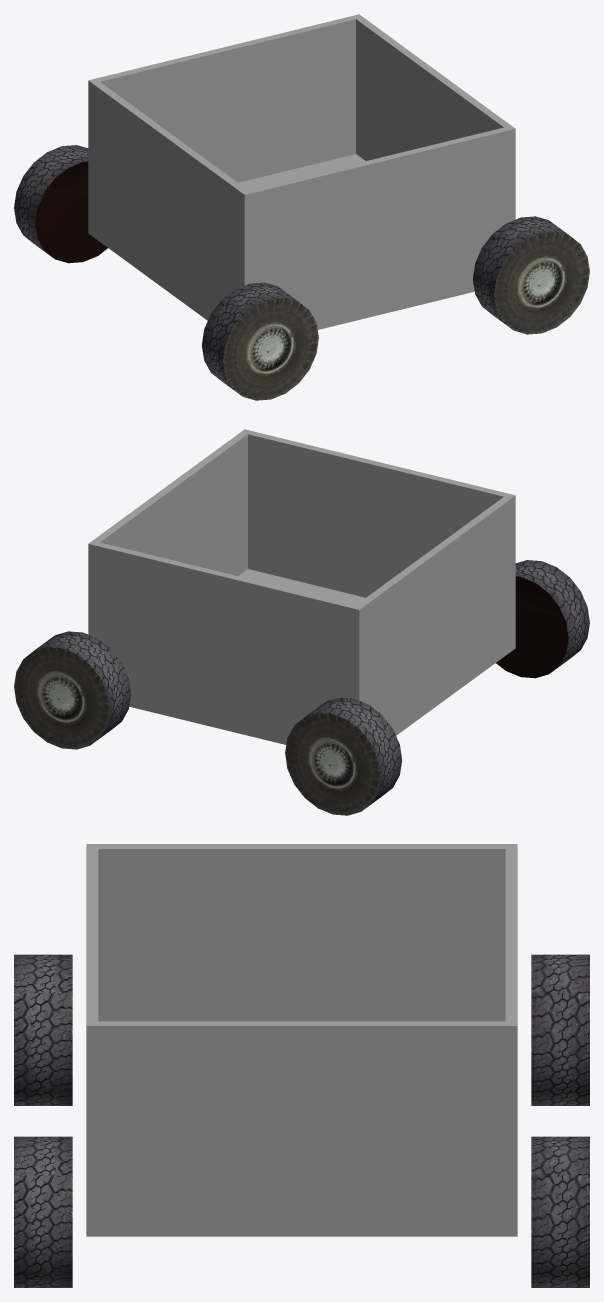
File: Carrierm.fbx
3 renders of one model, top to bottom at view 1: azimuth 30°, elevation 25°; view 2: azimuth 150°, elevation 25°; view 3: azimuth 270°, elevation 25°, orthographic. The views are drawn at different scales.
Visible parts, largest first — view 1: Tasiyici, Teker4, Teker3, Teker2; view 2: Tasiyici, Teker2, Teker1, Teker4; view 3: Tasiyici, Teker1, Teker2, Teker3, Teker4.
Boxes of the visible parts, <box> form: Tasiyici: <box>88,14,515,329</box>; Teker4: <box>202,282,318,400</box>; Teker3: <box>473,216,589,334</box>; Teker2: <box>14,145,107,263</box>; Tasiyici: <box>88,429,515,744</box>; Teker2: <box>285,697,401,815</box>; Teker1: <box>14,631,130,749</box>; Teker4: <box>496,560,589,678</box>; Tasiyici: <box>86,844,517,1236</box>; Teker1: <box>531,1136,589,1287</box>; Teker2: <box>531,954,589,1105</box>; Teker3: <box>14,1136,72,1287</box>; Teker4: <box>14,954,72,1105</box>.
Size of the model in its own units: 2.71 by 1.31 by 2.67.
